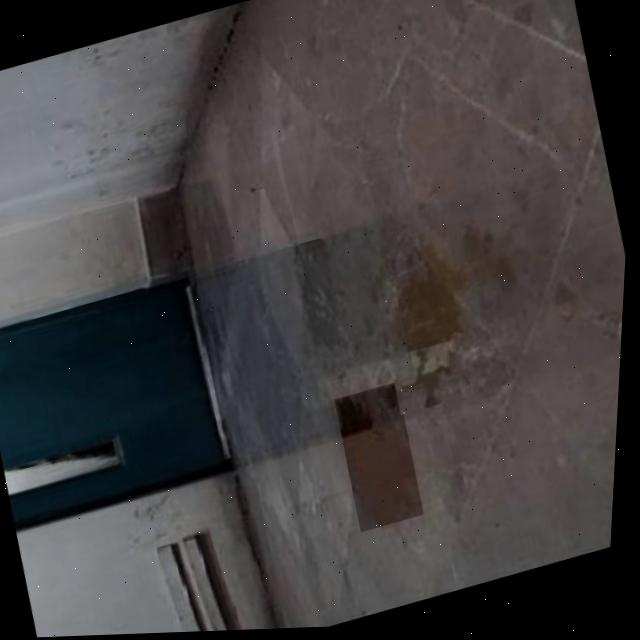spillage: (391, 244, 468, 409), (344, 397, 427, 527)
